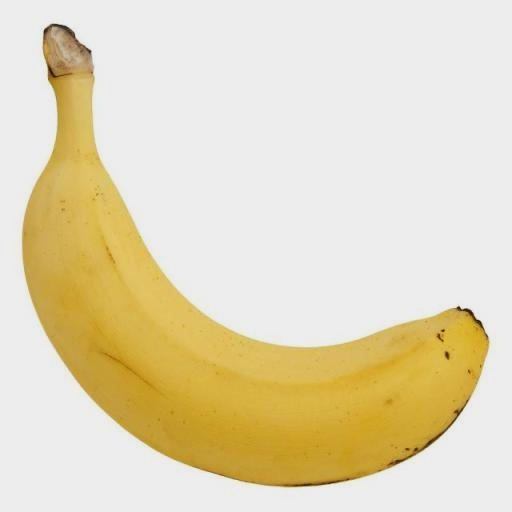fruit: (23, 25, 487, 485)
